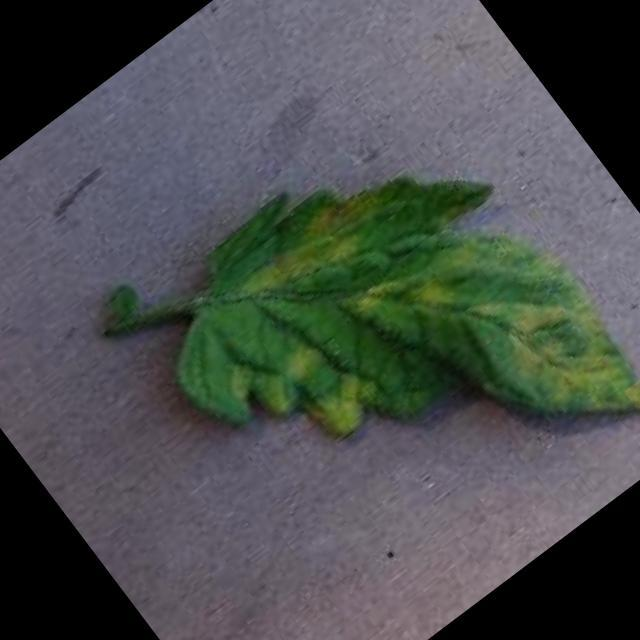Tomato mold leaf: (121, 77, 640, 638)
